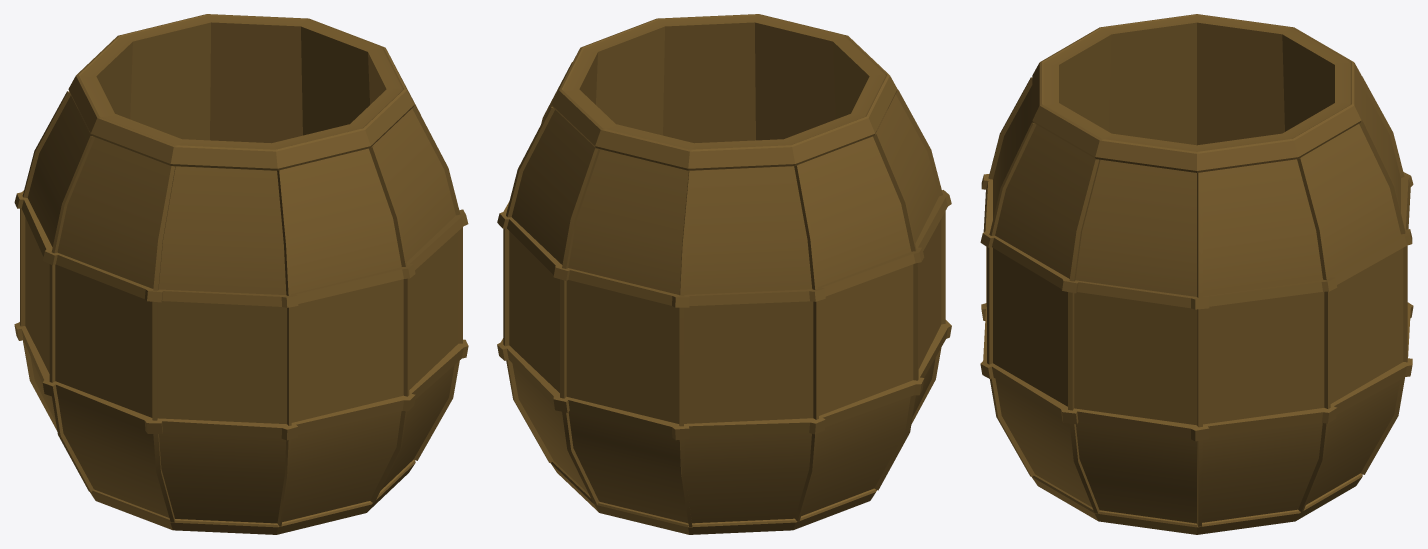
File: Barrel.fbx
3 renders of one model, left to right at view 1: azimuth 30°, elevation 25°; view 2: azimuth 150°, elevation 25°; view 3: azimuth 270°, elevation 25°, orthographic.
Parts seen in each view (by area): view 1: pCylinder4; view 2: pCylinder4; view 3: pCylinder4.
Part boxes in pixels (box(x1,y1,x2,y2)): pCylinder4: box(14, 14, 468, 534); pCylinder4: box(497, 14, 951, 534); pCylinder4: box(980, 14, 1413, 534).
Size of the model in its own units: 107 by 99.55 by 102.
